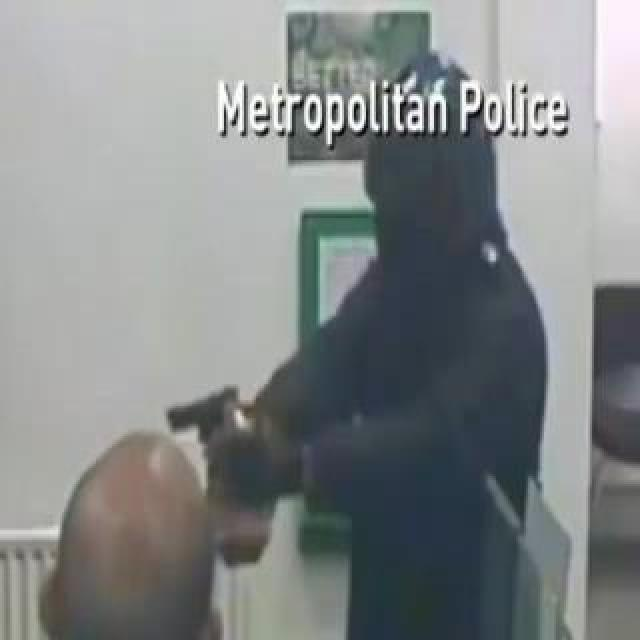Guns: (160, 368, 268, 475)
